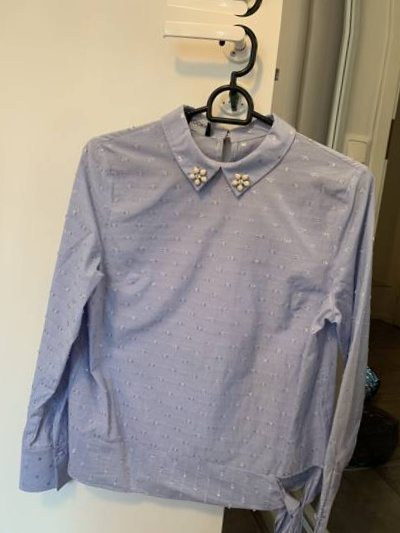Blouse: (7, 68, 400, 533)
